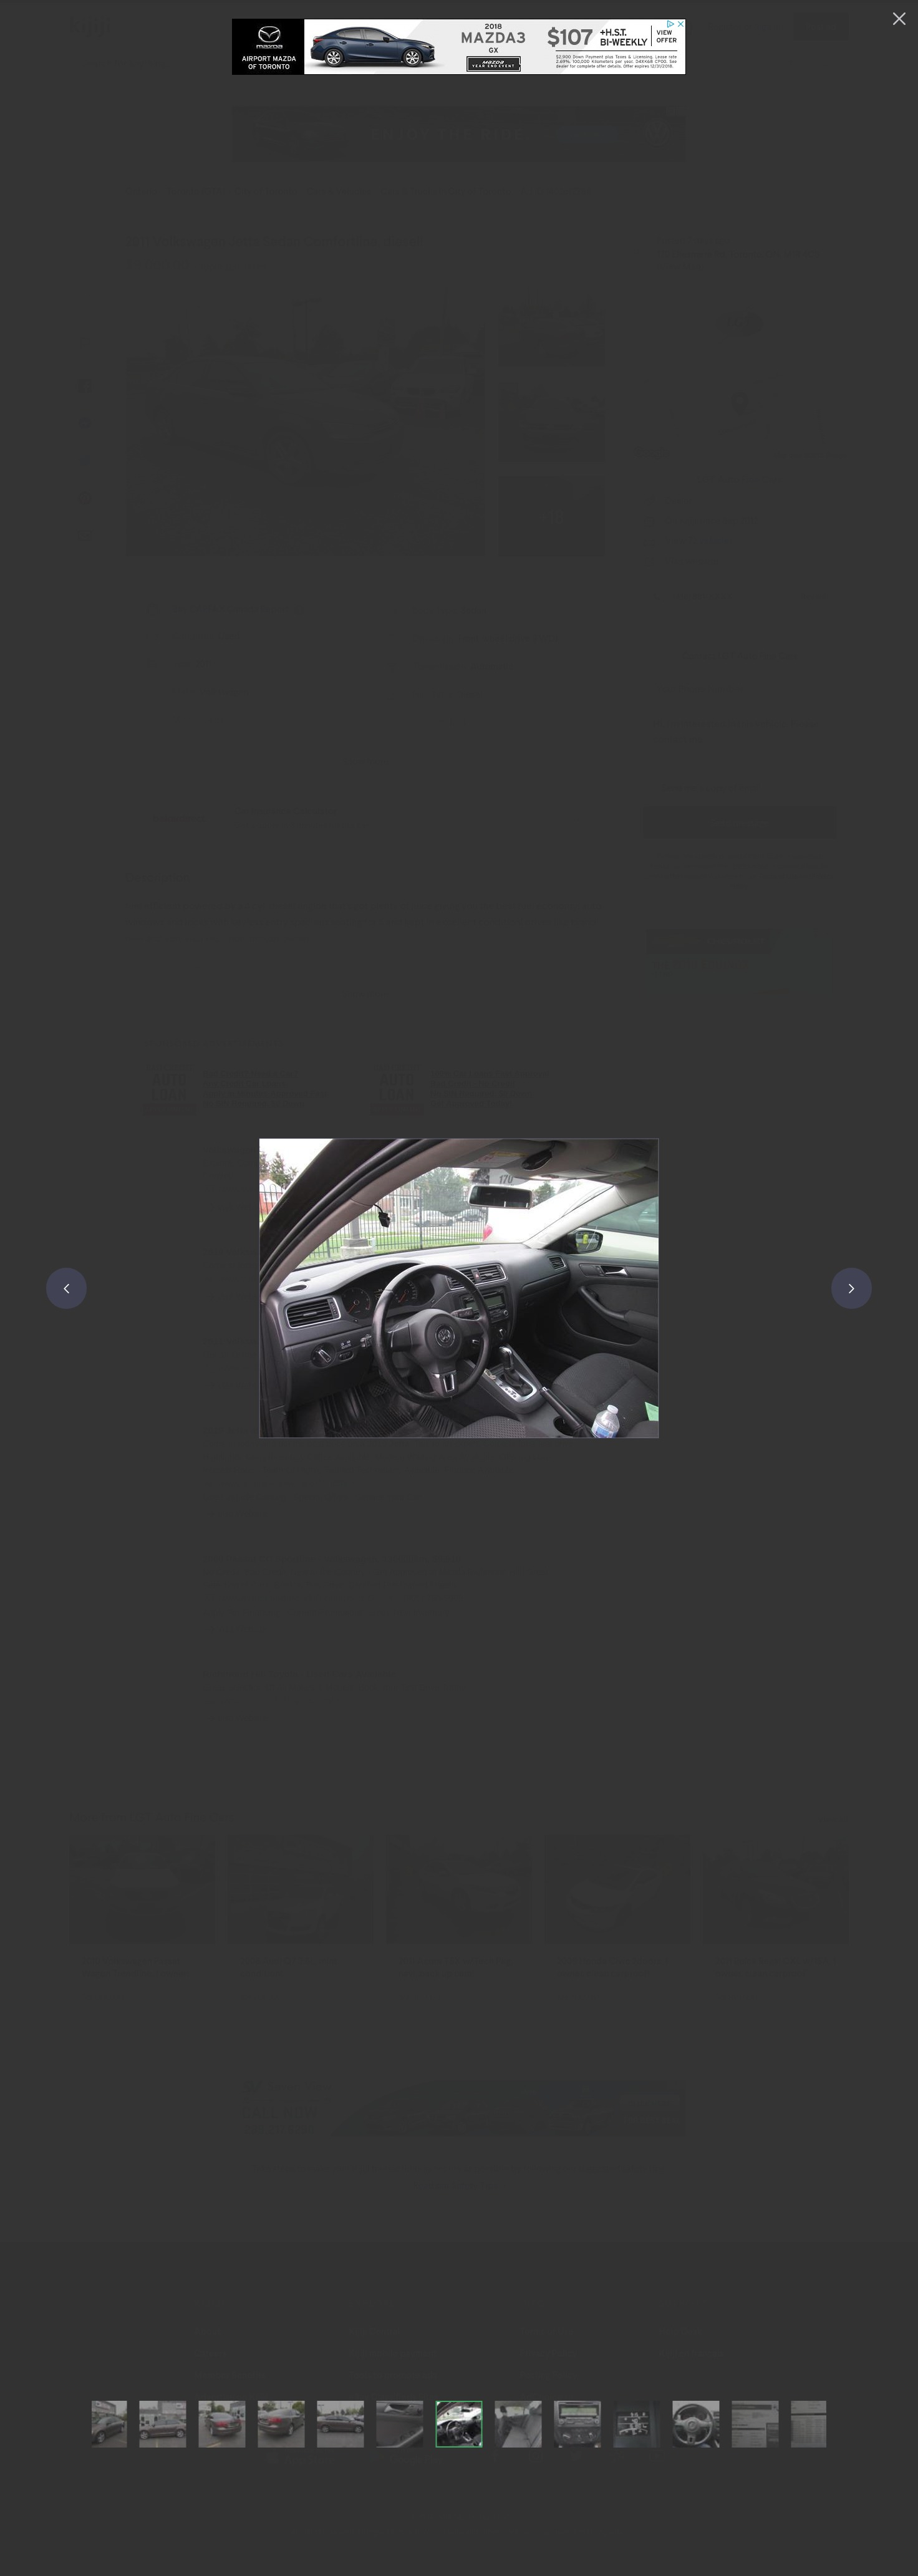car: (829, 1267, 875, 1309)
